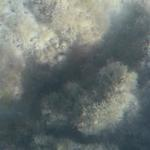dead: (11, 11, 138, 141)
